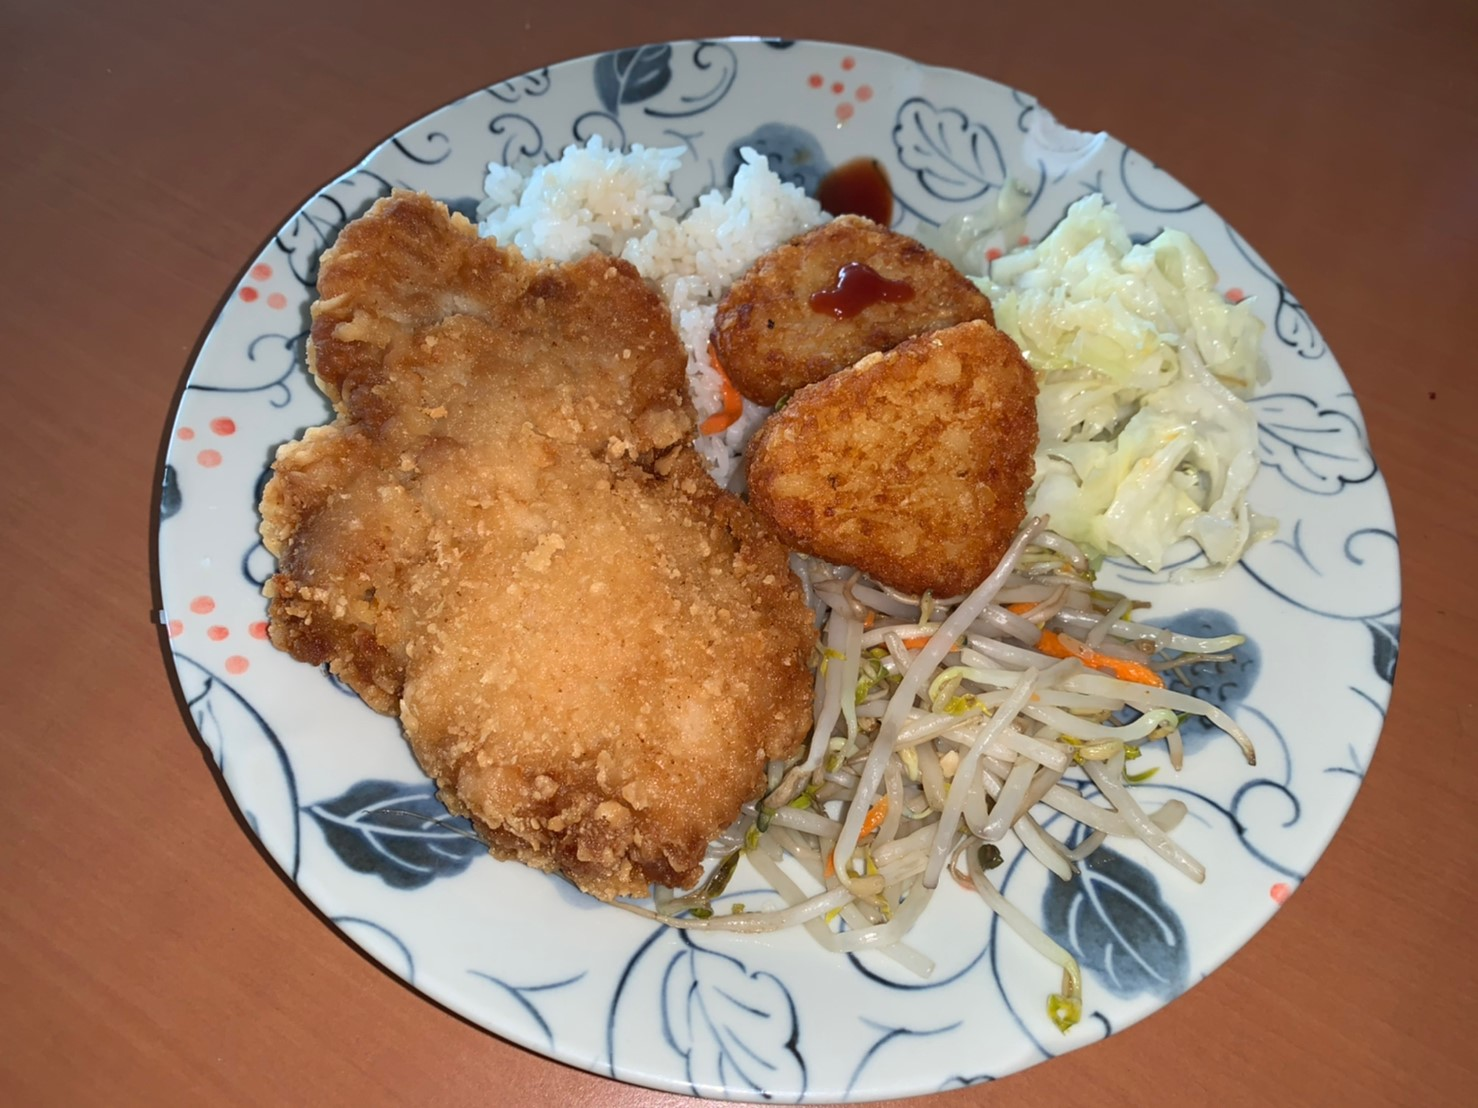chinese_cabbage: (1040, 200, 1238, 571)
fried_chicken: (269, 196, 767, 862)
mung_bean_sprouts: (822, 594, 1154, 867)
rice: (505, 135, 798, 311)
triangle_hash_brown: (742, 218, 1009, 591)
